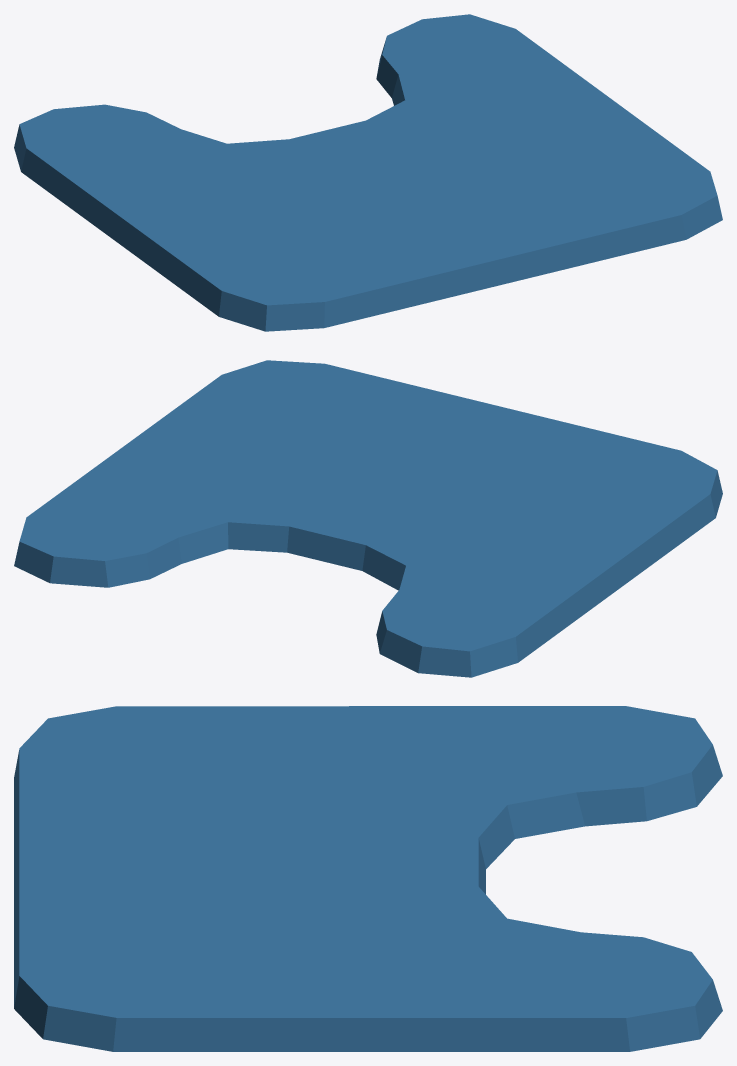
The model's file is furniture_mat-pedestal.fbx.
The picture shows the model from 3 angles, top to bottom: view 1: azimuth 30°, elevation 25°; view 2: azimuth 150°, elevation 25°; view 3: azimuth 270°, elevation 25°; orthographic projection. The views are drawn at different scales.
Visible parts, largest first — view 1: furniture_mat_pedestal; view 2: furniture_mat_pedestal; view 3: furniture_mat_pedestal.
Boxes of the visible parts, left/top/right/bottom form: furniture_mat_pedestal: left=14, top=14, right=722, bottom=331; furniture_mat_pedestal: left=14, top=360, right=722, bottom=677; furniture_mat_pedestal: left=14, top=706, right=722, bottom=1051.
Size of the model in its own units: 200 by 9.23 by 189.
